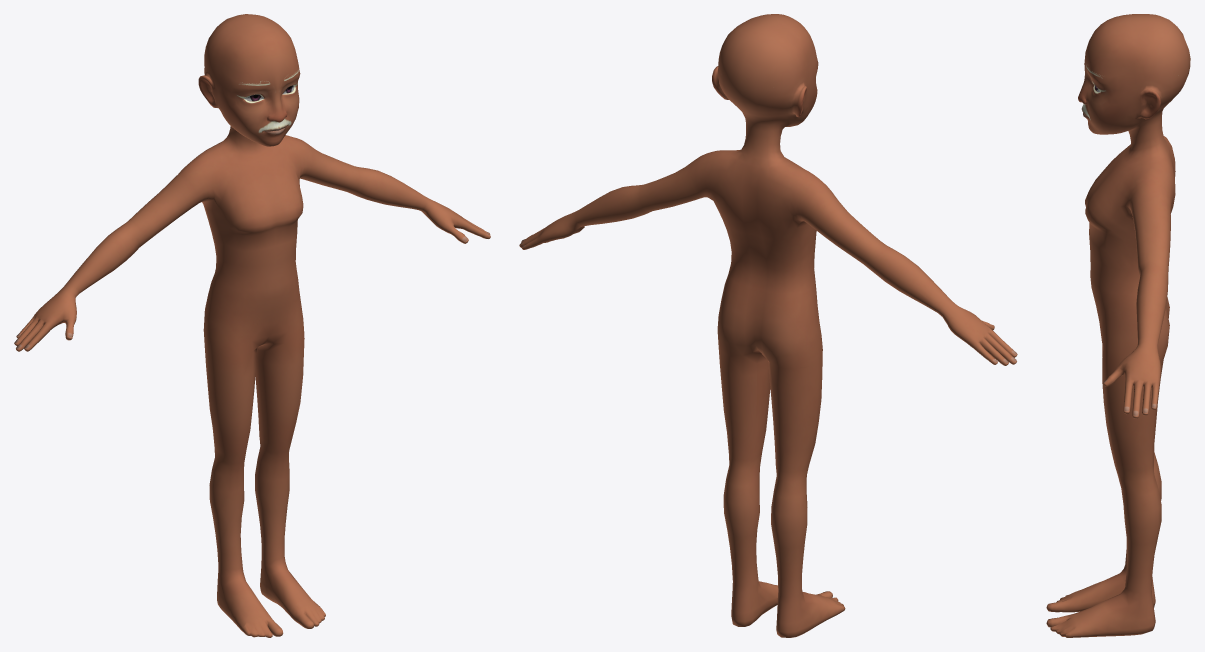
Rendered from frame_0097.glb.
The picture shows the model from 3 angles, left to right: view 1: azimuth 30°, elevation 25°; view 2: azimuth 150°, elevation 25°; view 3: azimuth 270°, elevation 25°; orthographic projection. The views are drawn at different scales.
Visible parts, largest first — view 1: frame_0097_head_geo; view 2: frame_0097_head_geo; view 3: frame_0097_head_geo.
Part boxes in pixels (x1=…): frame_0097_head_geo: x1=14, y1=14, x2=490, y2=637; frame_0097_head_geo: x1=519, y1=14, x2=1017, y2=637; frame_0097_head_geo: x1=1046, y1=14, x2=1190, y2=637.
Bounding box in the file's own units: 1.28 × 1.5 × 0.3253.
3 materials, 3 textured.
